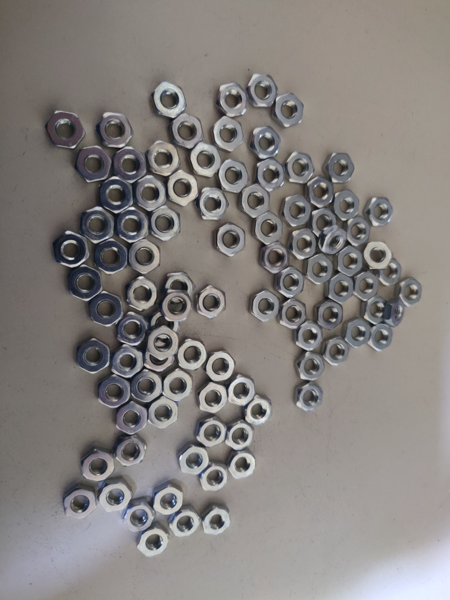nut: (46, 111, 86, 151), (107, 145, 147, 185), (77, 446, 115, 484), (71, 147, 110, 184), (52, 232, 91, 269), (116, 206, 152, 246), (127, 369, 166, 405), (95, 112, 133, 148), (149, 82, 187, 118), (146, 140, 181, 178), (98, 178, 133, 215), (151, 481, 186, 518), (172, 112, 204, 152), (67, 265, 103, 300), (112, 403, 148, 438), (167, 169, 201, 206), (78, 206, 114, 240), (63, 486, 97, 522), (190, 142, 222, 180), (145, 325, 179, 360), (214, 222, 247, 258), (201, 502, 233, 539), (151, 205, 181, 244), (193, 286, 227, 320), (279, 193, 312, 228), (77, 337, 109, 373), (97, 376, 133, 408), (161, 288, 193, 323), (361, 240, 396, 272), (137, 175, 168, 211), (124, 499, 155, 535), (250, 287, 281, 323), (115, 435, 148, 468), (101, 479, 133, 513), (112, 344, 143, 379), (219, 160, 250, 195), (139, 524, 170, 559), (96, 239, 126, 275), (177, 338, 207, 374), (215, 84, 247, 117), (259, 242, 291, 275), (275, 94, 305, 129), (305, 253, 335, 288), (333, 190, 363, 225), (177, 445, 210, 476), (287, 229, 320, 260), (199, 188, 229, 222), (214, 118, 244, 152), (171, 507, 201, 541), (207, 348, 236, 383), (227, 373, 256, 408), (249, 73, 277, 109), (88, 294, 120, 325), (243, 396, 274, 428), (239, 184, 269, 217), (313, 299, 343, 332), (279, 296, 308, 330), (126, 277, 154, 312), (199, 380, 227, 415), (254, 212, 282, 247), (130, 242, 161, 273), (250, 125, 282, 155), (257, 158, 284, 193), (324, 152, 355, 182), (294, 382, 324, 413), (350, 271, 380, 302), (197, 418, 226, 450), (118, 312, 146, 345), (164, 371, 193, 402), (306, 176, 335, 207), (145, 343, 173, 375), (346, 317, 372, 351), (163, 274, 192, 304), (294, 352, 323, 382), (376, 258, 405, 288), (150, 398, 178, 429), (323, 335, 351, 366), (320, 226, 348, 257), (201, 462, 228, 494), (287, 152, 314, 184), (398, 278, 424, 311), (149, 308, 177, 338), (328, 273, 356, 303), (339, 247, 365, 279), (312, 210, 337, 243), (346, 217, 372, 248), (369, 195, 393, 228), (361, 299, 389, 327), (298, 322, 322, 354), (279, 269, 305, 298), (231, 454, 258, 481), (371, 325, 395, 353), (232, 424, 254, 453)
